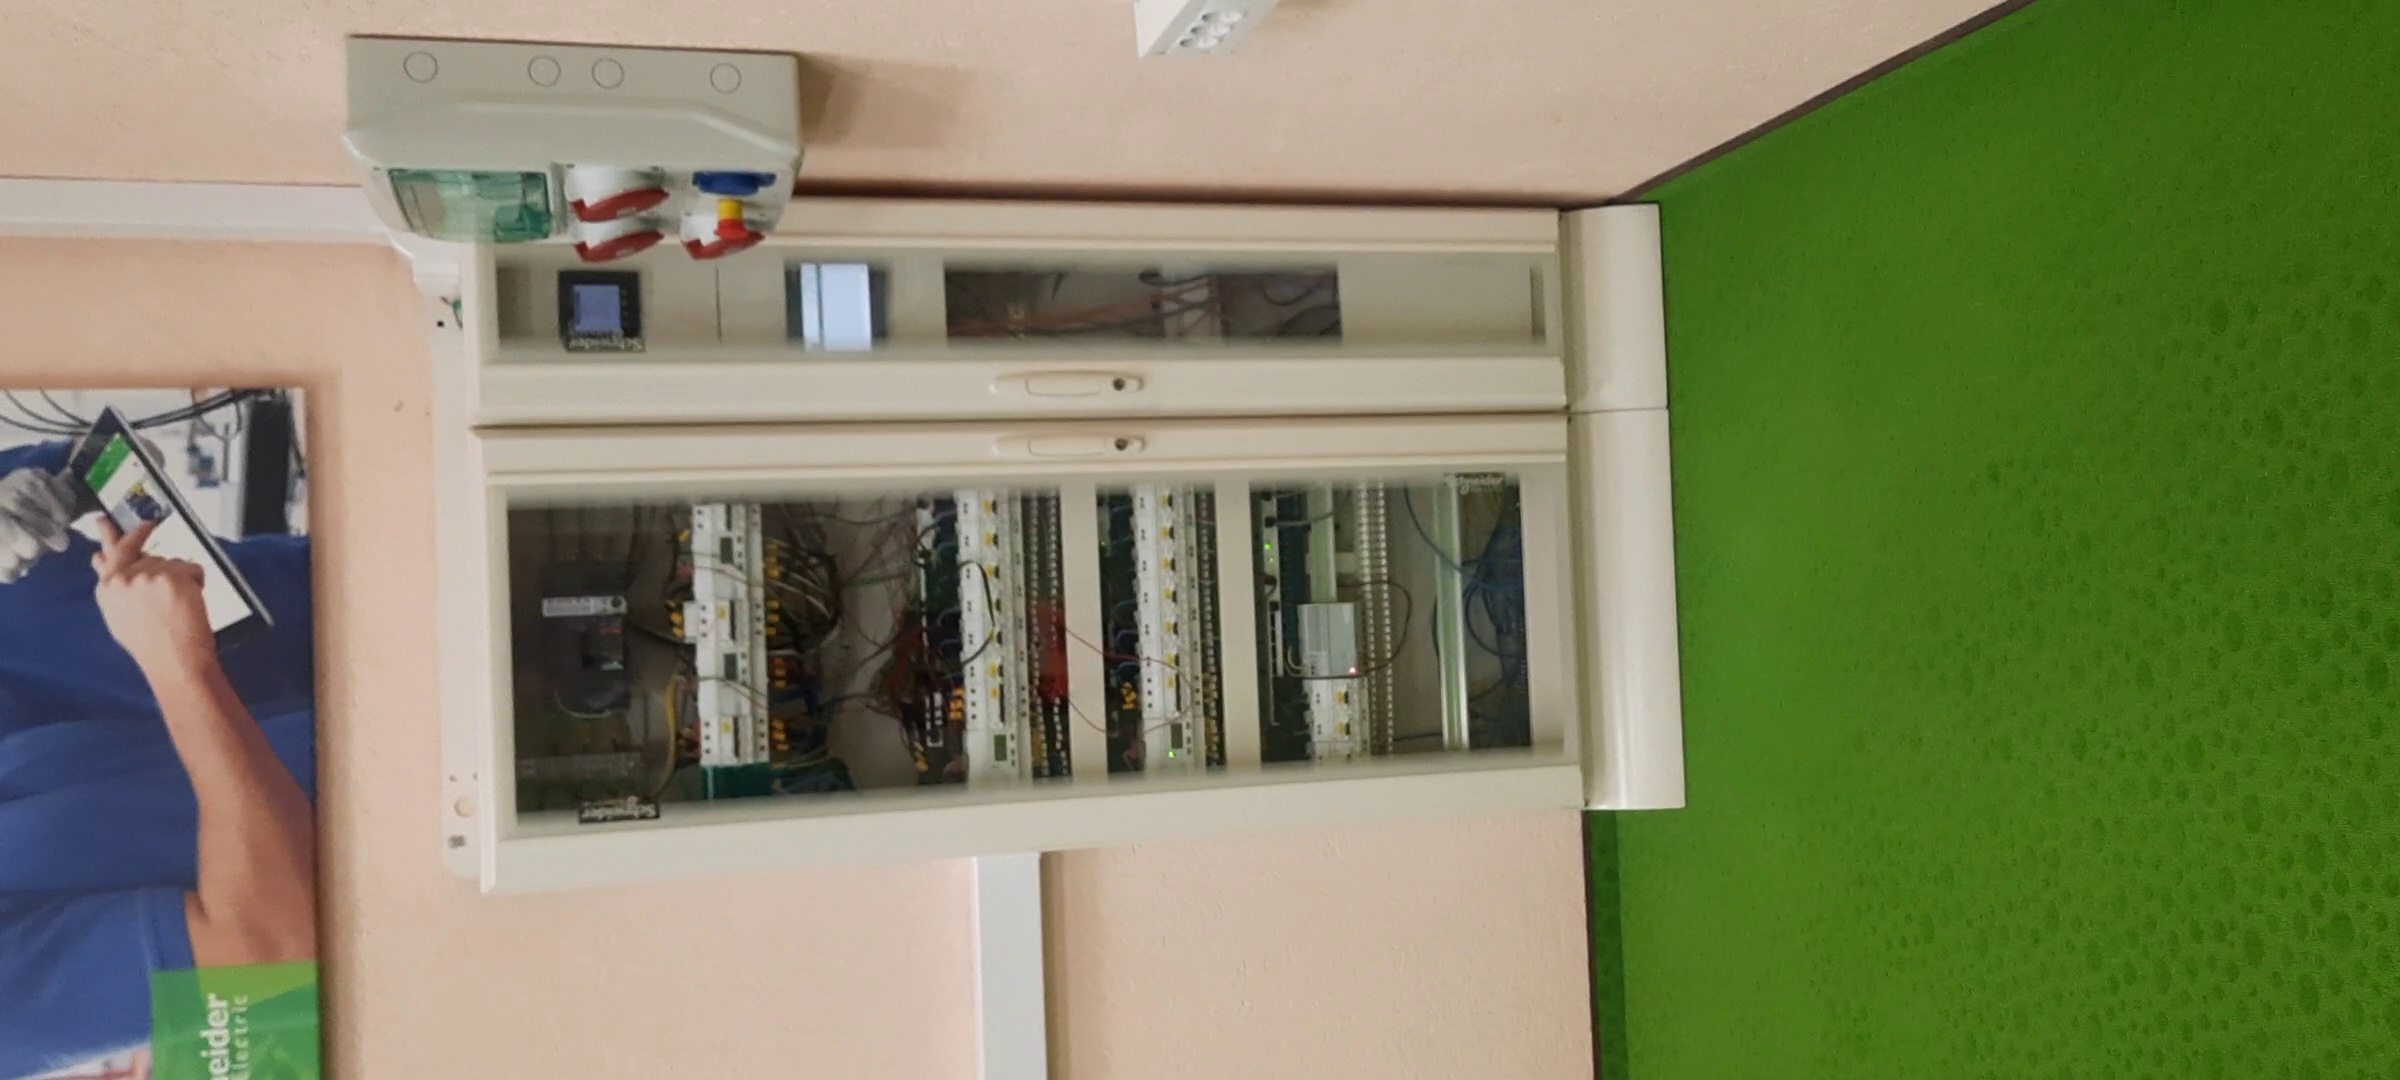stand1: (474, 222, 1664, 846)
